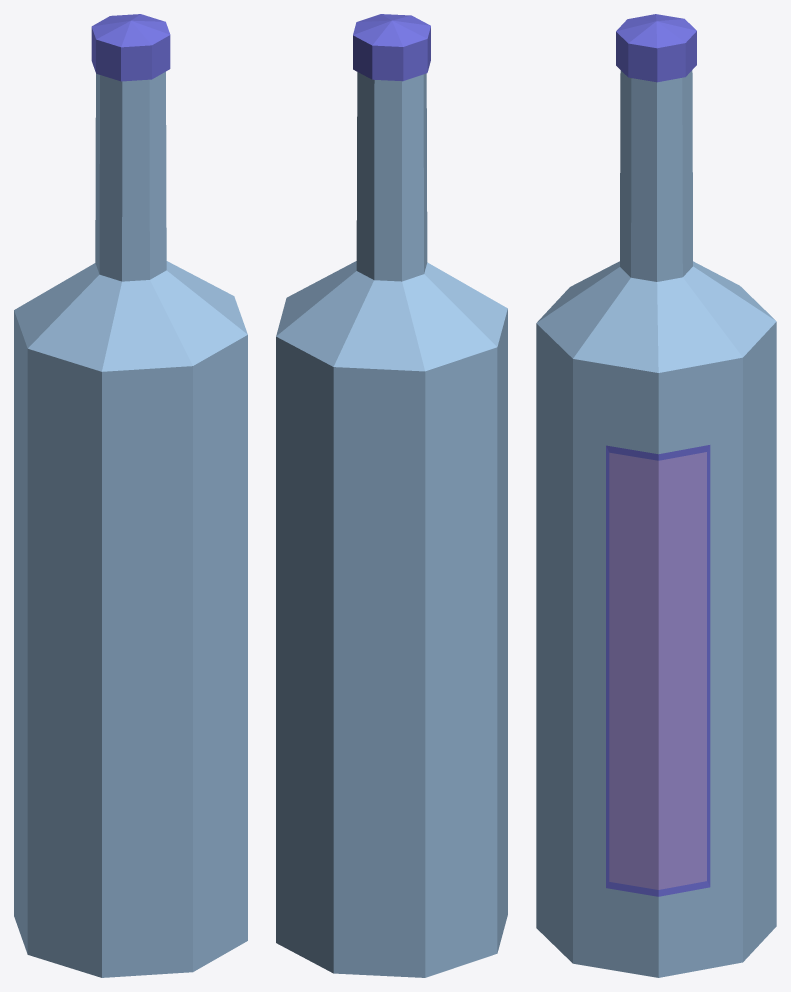
The model's file is vodka.fbx.
3 views of the same model, side by side, from view 1: azimuth 30°, elevation 25°; view 2: azimuth 150°, elevation 25°; view 3: azimuth 270°, elevation 25° (orthographic).
Visible parts, largest first — view 1: Cylinder; view 2: Cylinder; view 3: Cylinder.
Part boxes in pixels (<box>): Cylinder: <box>14,14,247,977</box>; Cylinder: <box>276,14,507,977</box>; Cylinder: <box>536,14,776,977</box>.
Size of the model in its own units: 2 by 8.31 by 2.
